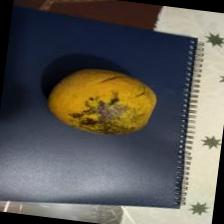Orange Rotten: (40, 46, 170, 155)
